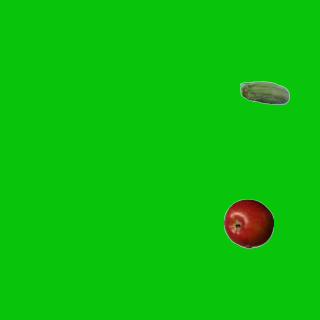Apple Braeburn: (223, 198, 273, 248)
Corn Husk: (239, 69, 289, 119)
